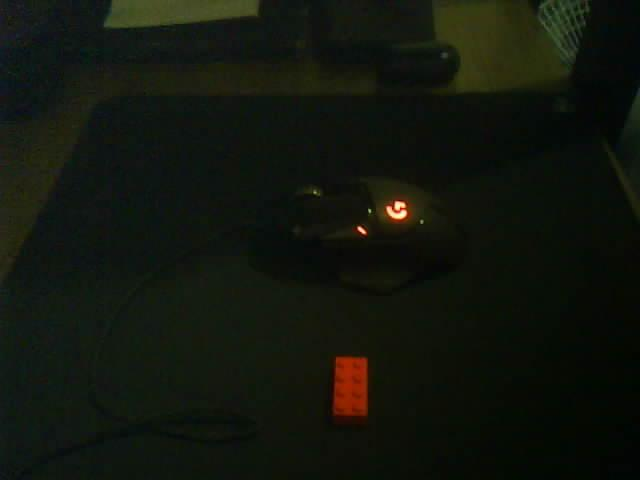lego: (331, 354, 371, 421)
